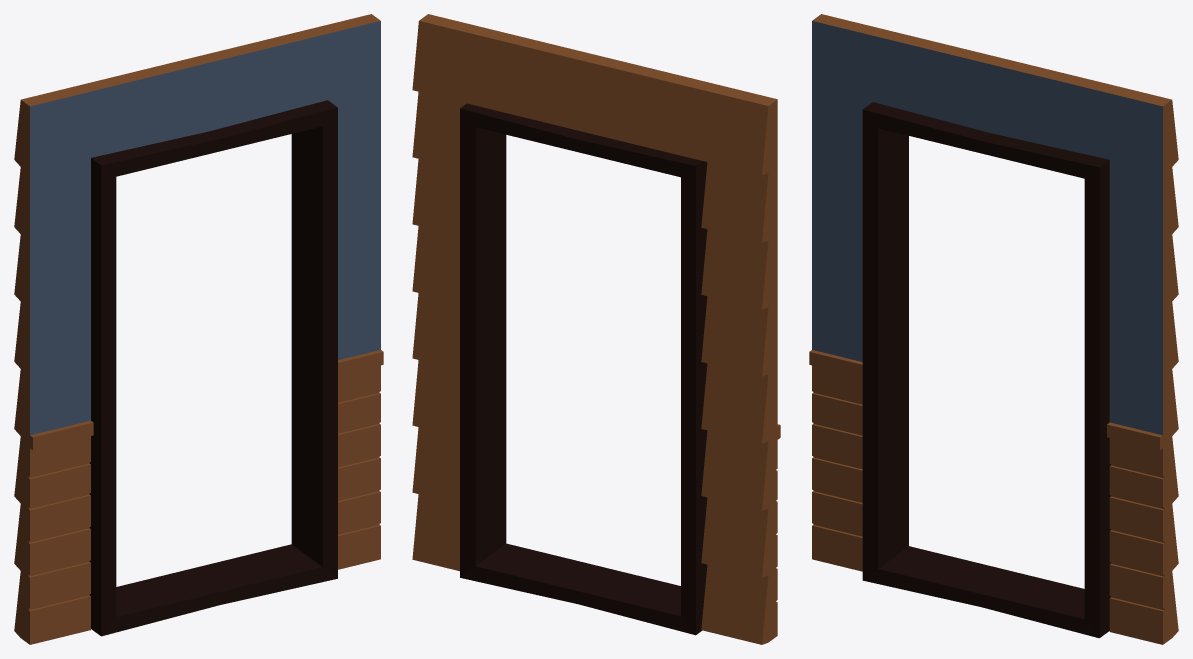
Rendered from ww_small_door_b.glb.
The picture shows the model from 3 angles, left to right: view 1: azimuth 30°, elevation 25°; view 2: azimuth 150°, elevation 25°; view 3: azimuth 330°, elevation 25°; orthographic projection.
Visible parts, largest first — view 1: Small_Door_B; view 2: Small_Door_B; view 3: Small_Door_B.
Boxes of the visible parts, x1,y1,x2,y2 form: Small_Door_B: (14, 14, 383, 644); Small_Door_B: (412, 14, 780, 644); Small_Door_B: (809, 14, 1178, 644).
Bounding box in the file's own units: 2.4 × 3.52 × 0.3743.
